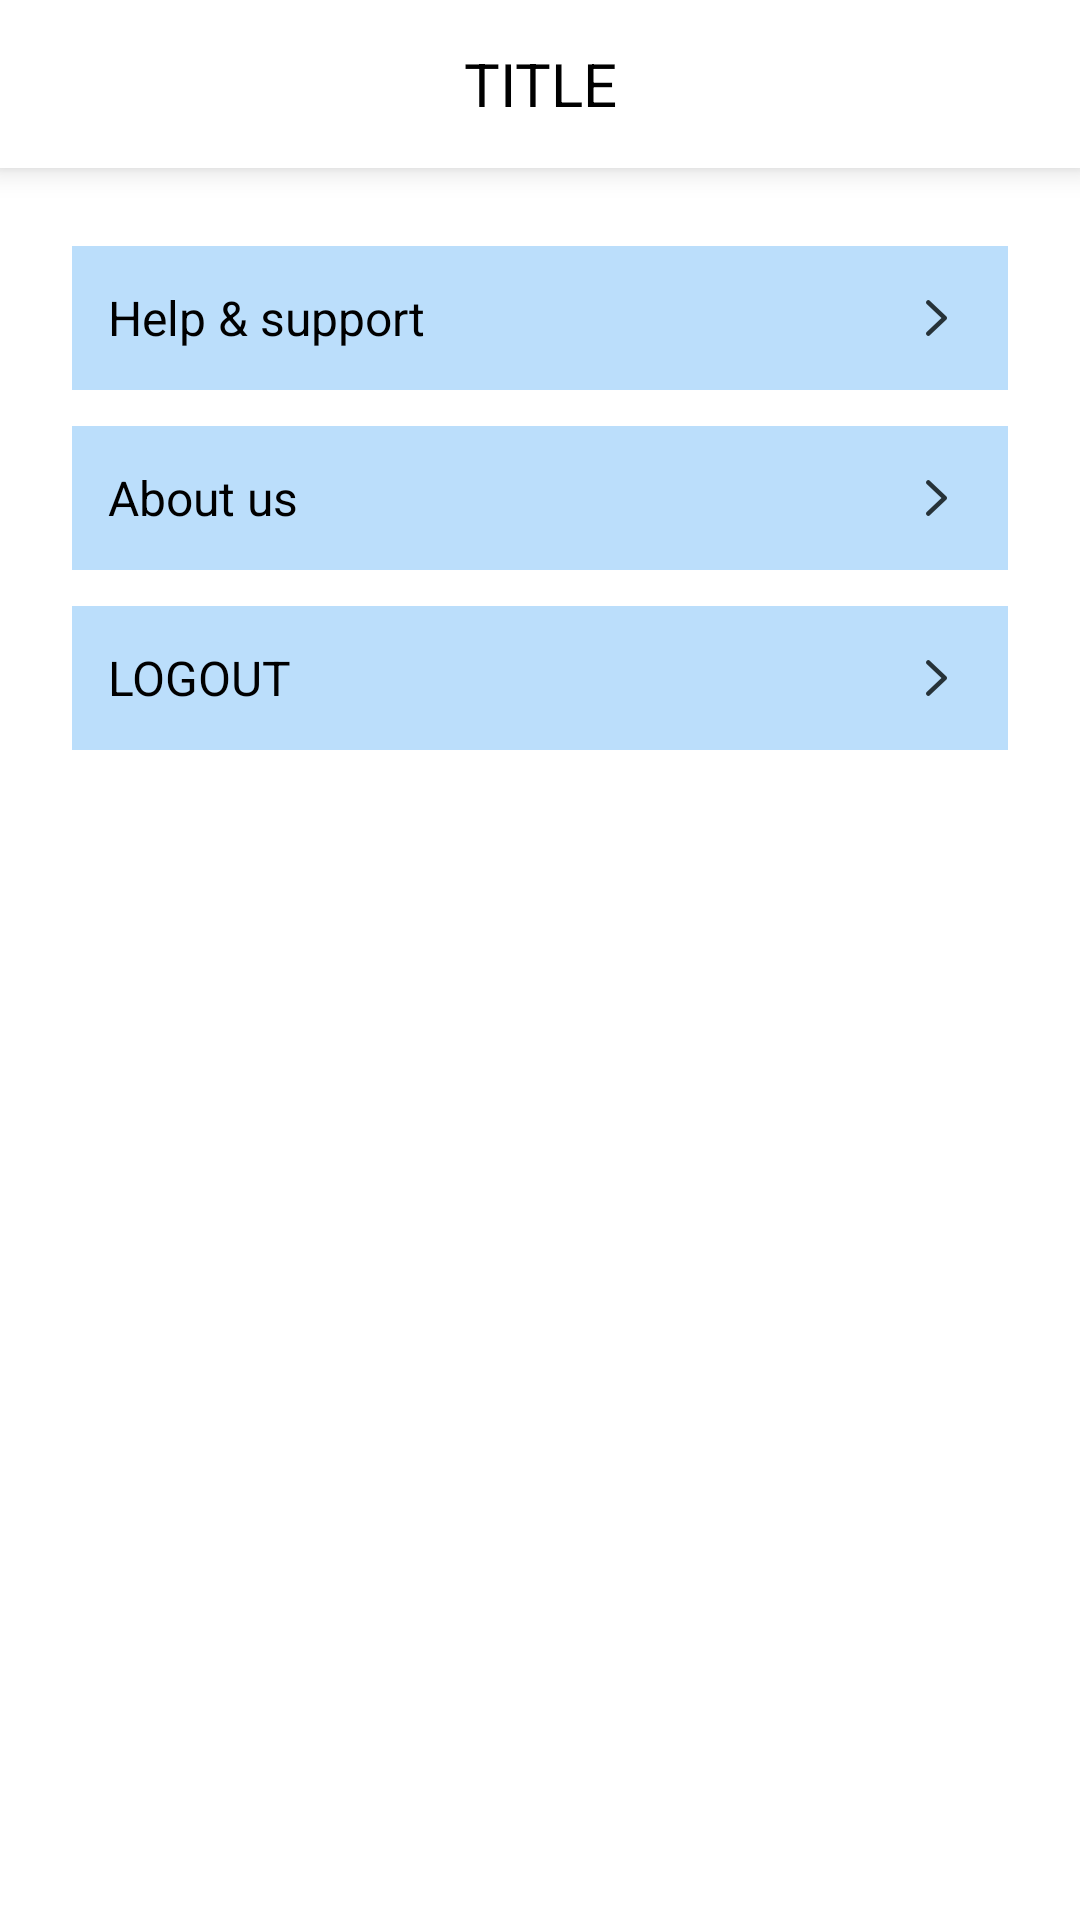

Where icons sit on this 1080×1920 app screen, as (x1, y1, x2, y2):
right arrow: (926, 300, 947, 336), (926, 480, 947, 516), (926, 660, 947, 696)
